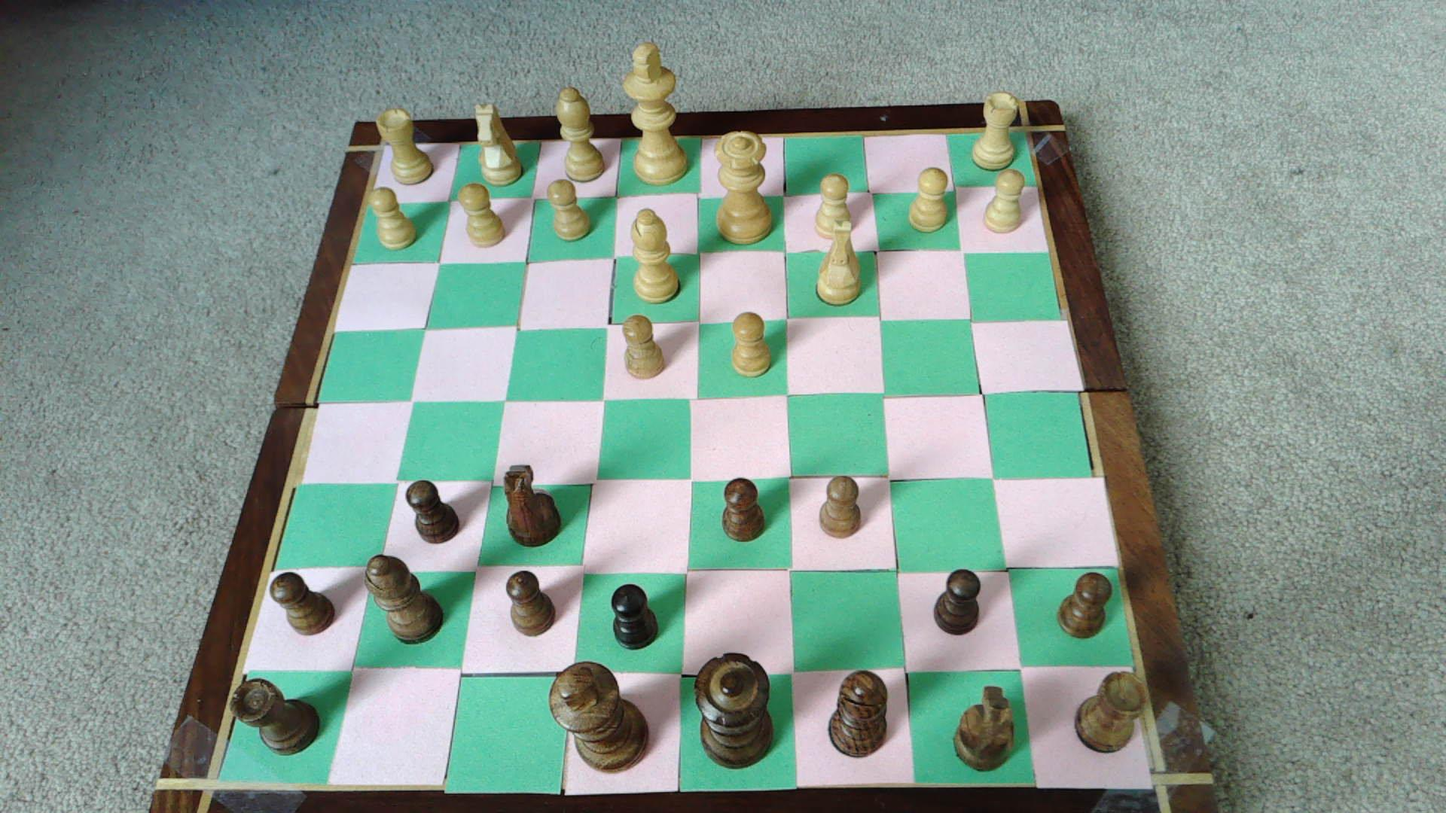dark_piece: (551, 662, 648, 770), (695, 653, 772, 766), (365, 555, 444, 642), (232, 679, 319, 754), (1075, 672, 1147, 752), (953, 685, 1013, 770), (829, 671, 887, 756), (503, 464, 560, 547), (271, 573, 336, 634), (1058, 573, 1112, 637), (406, 480, 459, 543), (507, 571, 556, 635), (612, 584, 659, 649), (934, 569, 980, 633), (723, 478, 765, 540), (820, 477, 861, 537)
white_piece: (622, 43, 689, 186), (715, 132, 773, 244), (555, 87, 605, 182), (632, 209, 680, 303), (377, 108, 435, 185), (473, 102, 523, 184), (972, 92, 1018, 170), (816, 228, 860, 304), (458, 184, 507, 247), (371, 187, 417, 250), (623, 315, 666, 378), (548, 180, 592, 241), (984, 169, 1025, 233), (731, 312, 772, 376), (909, 167, 949, 232), (814, 174, 854, 239)
